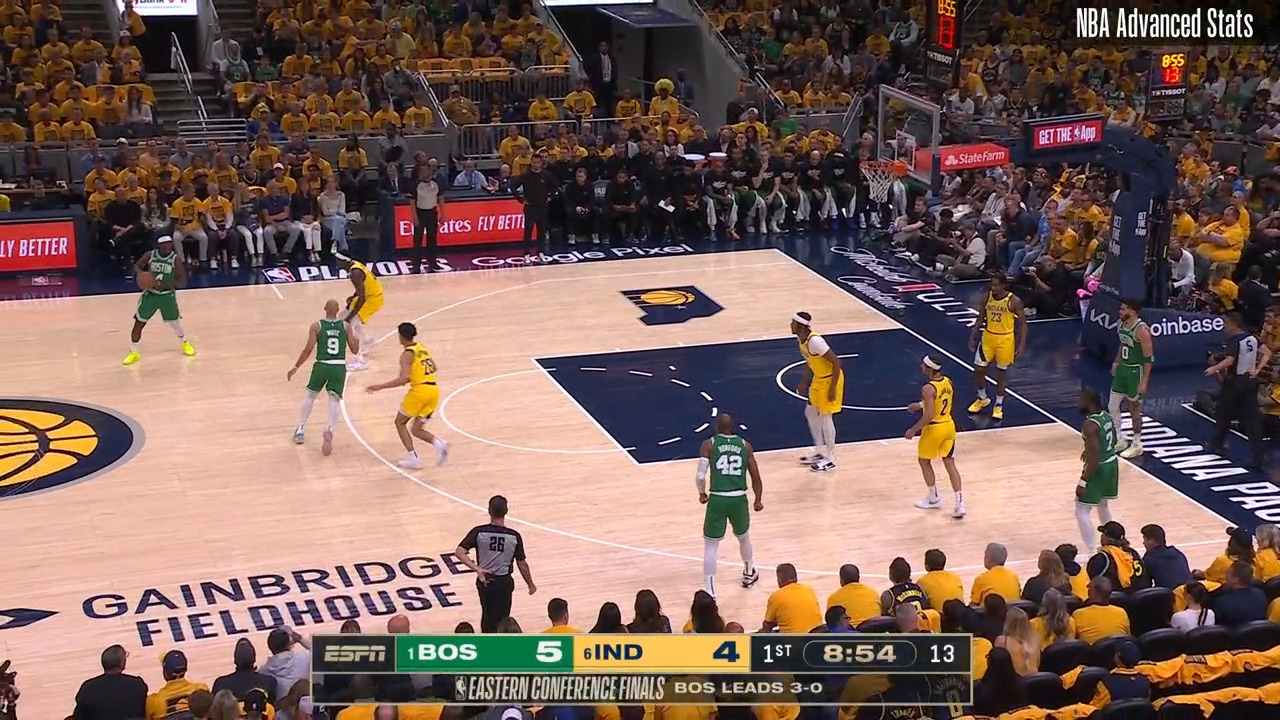basketball: (135, 269, 157, 292)
